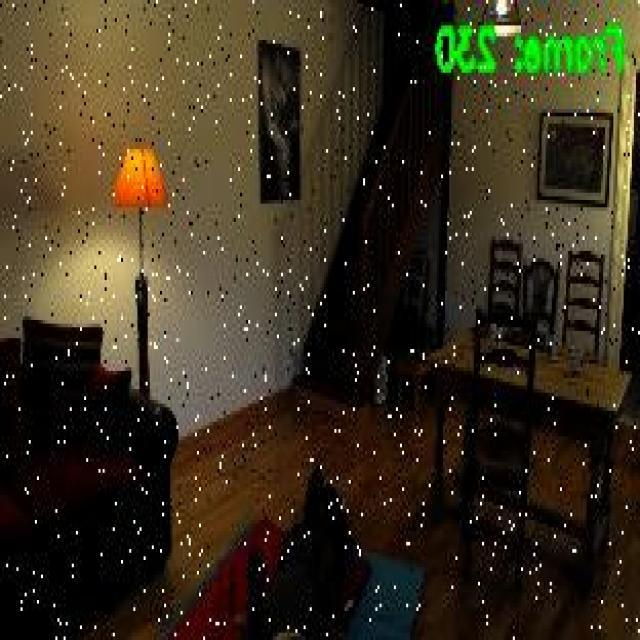fall: (238, 462, 357, 636)
